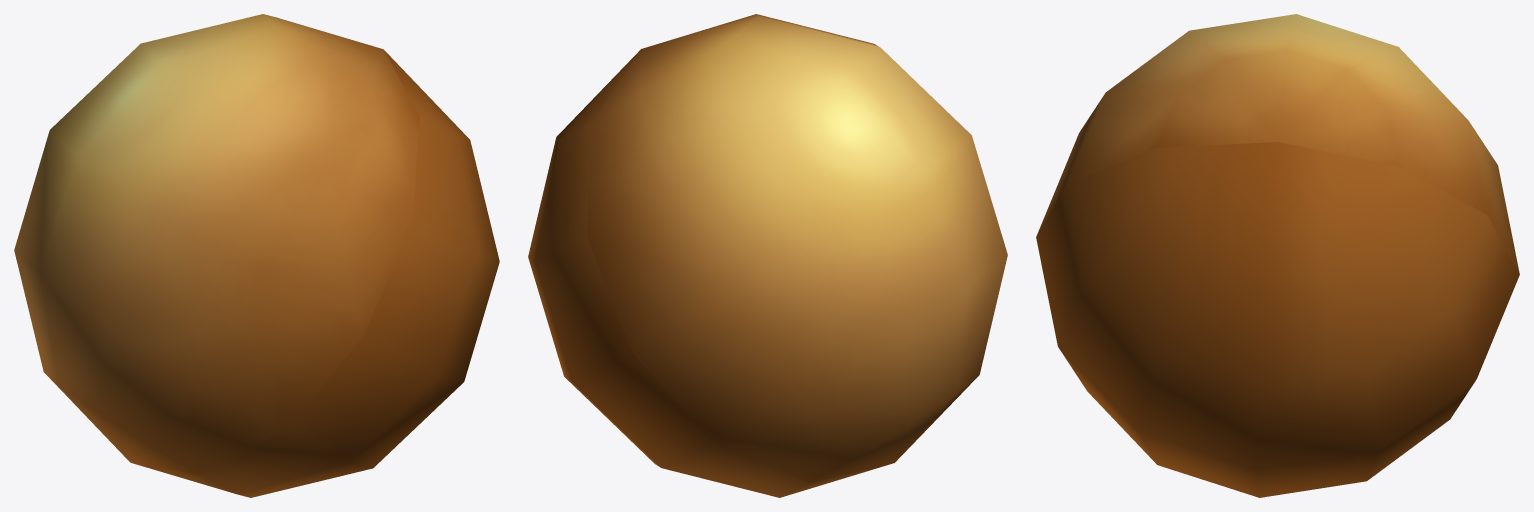
The model's file is a_SWAball01.glb.
The picture shows the model from 3 angles, left to right: view 1: azimuth 30°, elevation 25°; view 2: azimuth 150°, elevation 25°; view 3: azimuth 270°, elevation 25°; orthographic projection.
Visible parts, largest first — view 1: a_SWAball01; view 2: a_SWAball01; view 3: a_SWAball01.
Boxes of the visible parts, x1,y1,x2,y2 form: a_SWAball01: (14,14,499,497); a_SWAball01: (528,14,1007,497); a_SWAball01: (1036,14,1519,497).
Bounding box in the file's own units: 0.8697 × 0.871 × 0.8752.
1 material, 1 textured.
